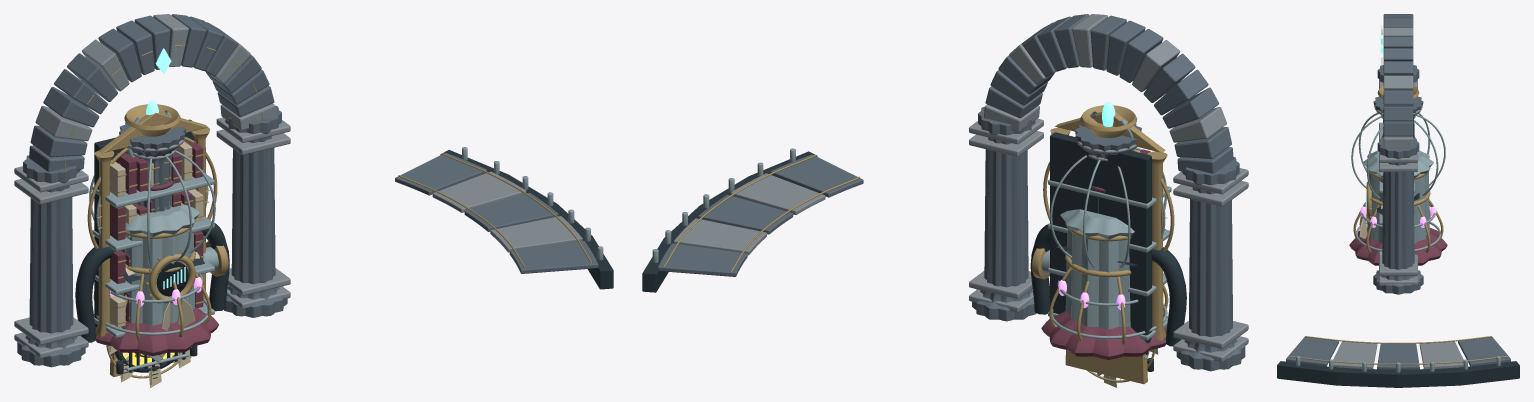
File: grande-detail-kit.glb
3 views of the same model, side by side, from view 1: azimuth 30°, elevation 25°; view 2: azimuth 150°, elevation 25°; view 3: azimuth 270°, elevation 25° (orthographic). The views are drawn at different scales.
Visible parts, largest first — view 1: ruin_arch / Weathered blue basalt, ruin_arch / Worn cut stone edge, terrace_segment / Weathered blue basalt, flood_pump / Machined steel, bookcase / Etched aged brass, terrace_segment / Worn cut stone edge, bookcase / Oxidized plum lacquer, boss_cantor / Oxidized plum lacquer, flood_pump / Recessed iron, bookcase / Machined steel, fluted_pillar / Weathered blue basalt, bookcase / Ivory parchment (+12 smaller); view 2: ruin_arch / Weathered blue basalt, ruin_arch / Worn cut stone edge, bookcase / Recessed iron, terrace_segment / Weathered blue basalt, flood_pump / Machined steel, terrace_segment / Worn cut stone edge, boss_cantor / Oxidized plum lacquer, bookcase / Etched aged brass, flood_pump / Recessed iron, boss_furnace / Etched aged brass, terrace_segment / Recessed iron, bookcase / Machined steel (+9 smaller); view 3: ruin_arch / Weathered blue basalt, terrace_segment / Recessed iron, terrace_segment / Weathered blue basalt, ruin_arch / Worn cut stone edge, terrace_segment / Worn cut stone edge, flood_pump / Machined steel, boss_cantor / Oxidized plum lacquer, star_globe / Machined steel, terrace_segment / Etched aged brass, boss_final / Etched aged brass, flood_pump / Etched aged brass, boss_final / Machined steel (+3 smaller).
Boxes of the visible parts, x1=… form: ruin_arch / Weathered blue basalt: x1=17, y1=14, x2=287, y2=367; ruin_arch / Worn cut stone edge: x1=14, y1=14, x2=290, y2=358; terrace_segment / Weathered blue basalt: x1=395, y1=153, x2=598, y2=273; flood_pump / Machined steel: x1=119, y1=202, x2=200, y2=325; bookcase / Etched aged brass: x1=94, y1=112, x2=209, y2=337; terrace_segment / Worn cut stone edge: x1=432, y1=171, x2=582, y2=252; bookcase / Oxidized plum lacquer: x1=110, y1=140, x2=203, y2=322; boss_cantor / Oxidized plum lacquer: x1=94, y1=307, x2=218, y2=356; flood_pump / Recessed iron: x1=75, y1=222, x2=229, y2=342; bookcase / Machined steel: x1=92, y1=172, x2=214, y2=338; fluted_pillar / Weathered blue basalt: x1=119, y1=122, x2=185, y2=212; bookcase / Ivory parchment: x1=110, y1=141, x2=203, y2=327; ruin_arch / Weathered blue basalt: x1=972, y1=14, x2=1245, y2=371; ruin_arch / Worn cut stone edge: x1=969, y1=14, x2=1248, y2=362; bookcase / Recessed iron: x1=1050, y1=132, x2=1151, y2=343; terrace_segment / Weathered blue basalt: x1=657, y1=154, x2=863, y2=276; flood_pump / Machined steel: x1=1060, y1=209, x2=1134, y2=329; terrace_segment / Worn cut stone edge: x1=673, y1=173, x2=825, y2=255; boss_cantor / Oxidized plum lacquer: x1=1041, y1=311, x2=1167, y2=359; bookcase / Etched aged brass: x1=1050, y1=112, x2=1167, y2=340; flood_pump / Recessed iron: x1=1030, y1=224, x2=1186, y2=346; boss_furnace / Etched aged brass: x1=1065, y1=350, x2=1147, y2=384; terrace_segment / Recessed iron: x1=642, y1=151, x2=817, y2=292; bookcase / Machined steel: x1=1048, y1=179, x2=1171, y2=340; ruin_arch / Weathered blue basalt: x1=1373, y1=14, x2=1423, y2=294; terrace_segment / Recessed iron: x1=1277, y1=361, x2=1519, y2=387; terrace_segment / Weathered blue basalt: x1=1286, y1=337, x2=1510, y2=369; ruin_arch / Worn cut stone edge: x1=1379, y1=27, x2=1417, y2=285; terrace_segment / Worn cut stone edge: x1=1333, y1=341, x2=1463, y2=369; flood_pump / Machined steel: x1=1363, y1=150, x2=1433, y2=243; boss_cantor / Oxidized plum lacquer: x1=1349, y1=228, x2=1447, y2=265; star_globe / Machined steel: x1=1351, y1=112, x2=1445, y2=198; terrace_segment / Etched aged brass: x1=1288, y1=336, x2=1508, y2=364; boss_final / Etched aged brass: x1=1353, y1=199, x2=1443, y2=252; flood_pump / Etched aged brass: x1=1366, y1=167, x2=1430, y2=220; boss_final / Machined steel: x1=1355, y1=203, x2=1441, y2=251.
Bounding box in the file's own units: 9.17 × 5.89 × 4.87.
